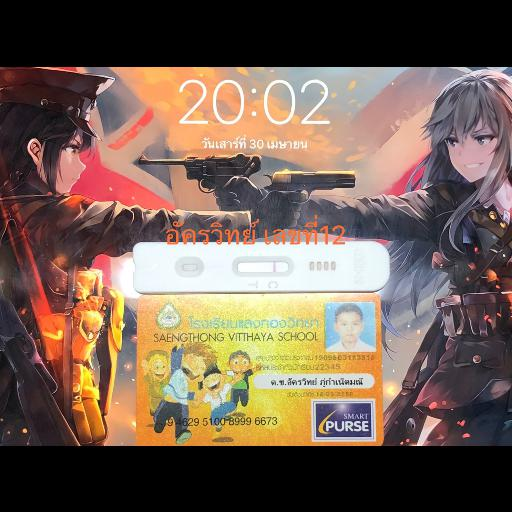Neg: (133, 242, 387, 290)
